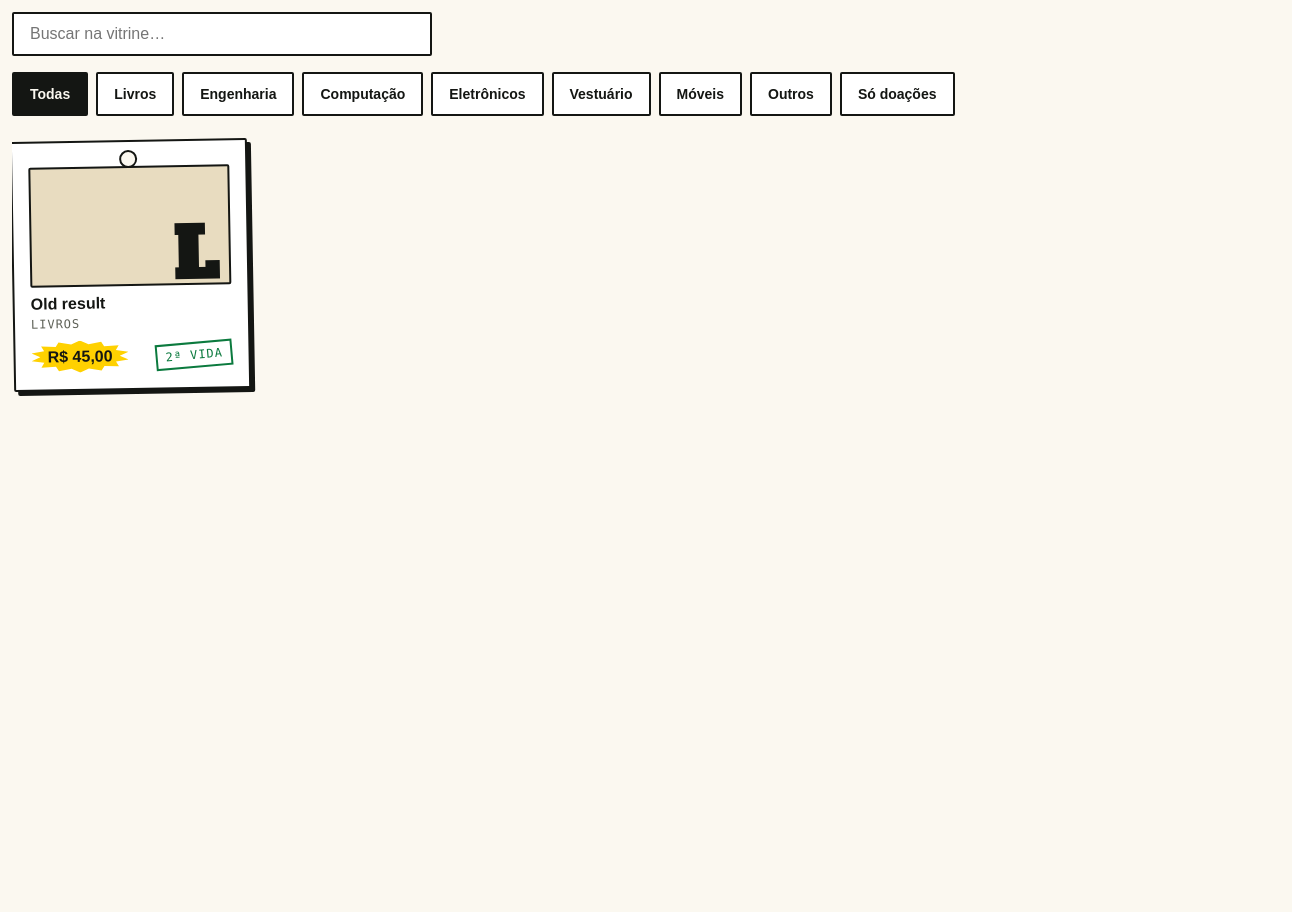
Test: Vitrine filters › replaces stale cards with loading feedback as soon as a category changes
This screenshot has width=1292, height=912.
Click the button "Livros".
click(135, 94)  # box x1=96 y1=72 x2=174 y2=116
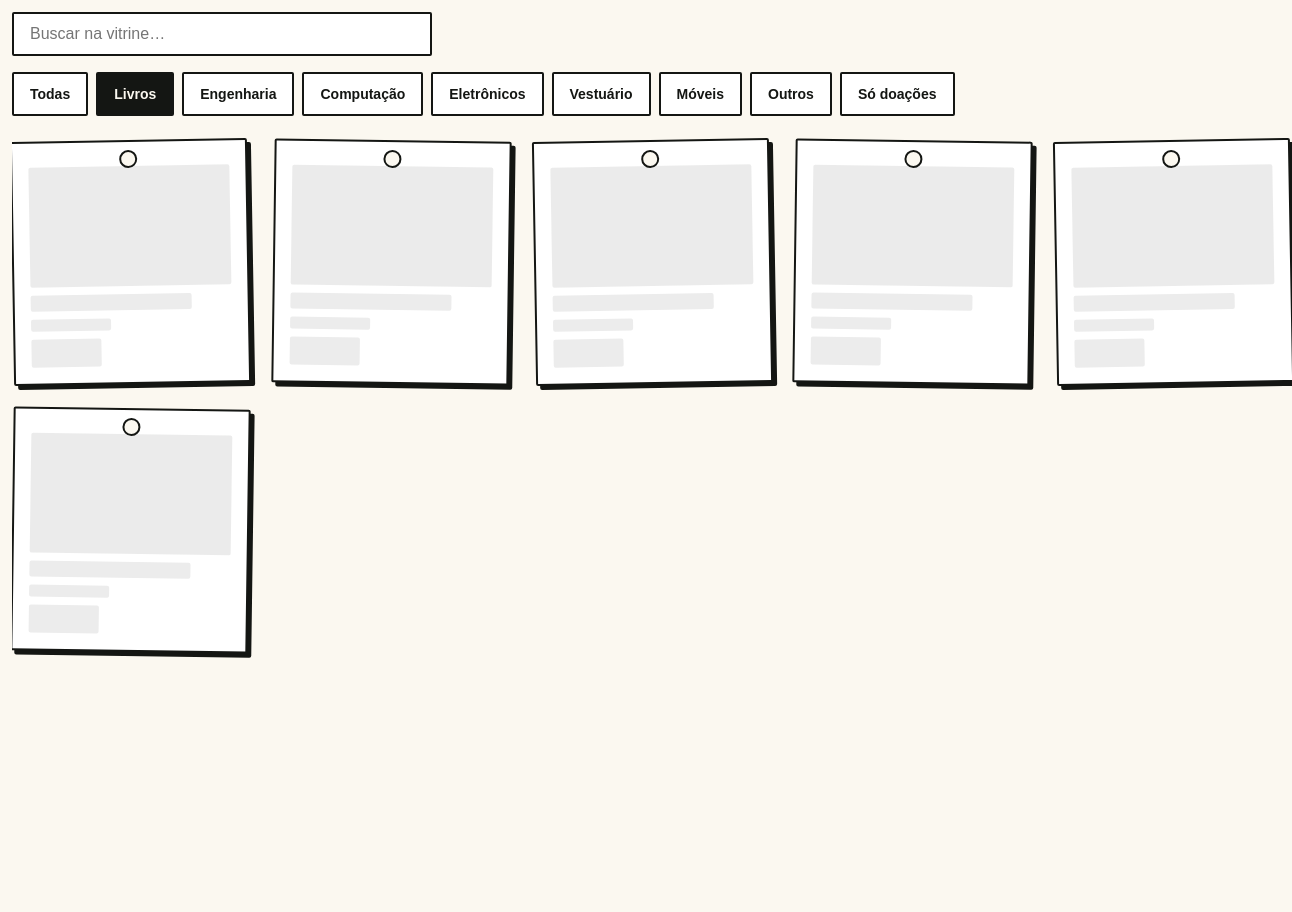
Expected: the element named "Carregando anúncios" is shown, x1=12 y1=140 x2=1291 y2=652
Now the text "Old result" is gone
